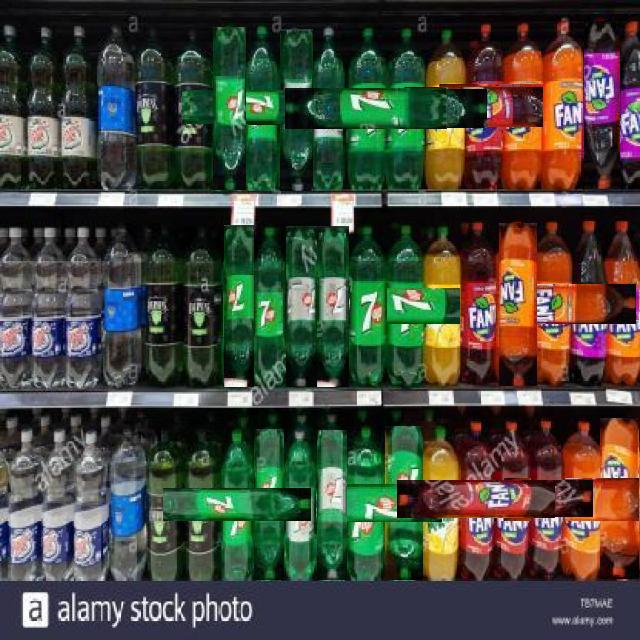Drinks: (439, 84, 606, 127), (543, 21, 584, 190), (403, 87, 569, 127), (470, 284, 636, 324), (286, 88, 447, 129), (497, 222, 537, 386), (599, 418, 639, 579), (582, 20, 620, 189), (326, 89, 487, 128), (461, 222, 499, 386), (397, 480, 555, 518), (324, 287, 485, 324), (350, 226, 387, 386), (385, 425, 423, 580), (434, 480, 593, 517), (504, 478, 640, 521), (290, 484, 442, 522), (212, 26, 246, 190), (279, 28, 313, 191), (182, 90, 344, 124), (531, 417, 565, 578), (248, 92, 410, 125), (254, 226, 286, 389), (317, 226, 349, 387), (285, 226, 317, 387), (223, 224, 254, 387), (506, 283, 640, 320), (163, 488, 311, 520), (285, 428, 316, 580), (253, 428, 284, 580), (316, 429, 347, 580), (538, 284, 640, 321)
